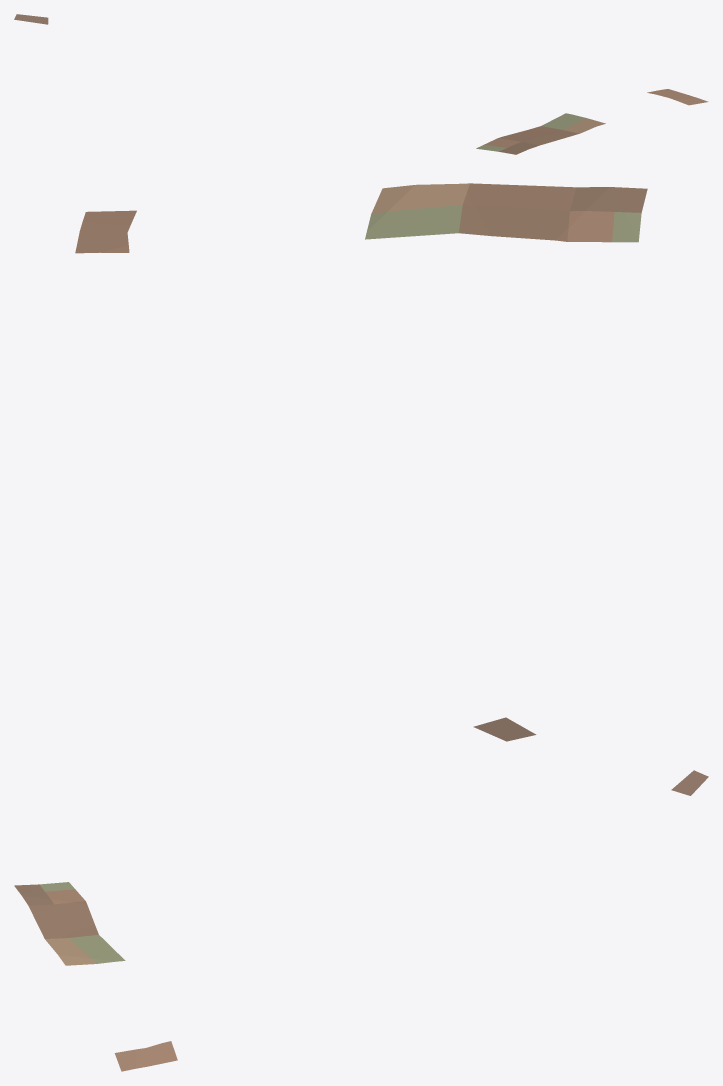
File: farm_1_11_soil.glb
3 views of the same model, one above another, from view 1: azimuth 30°, elevation 25°; view 2: azimuth 150°, elevation 25°; view 3: azimuth 270°, elevation 25° (orthographic). The views are drawn at different scales.
Parts seen in each view (by area): view 1: geometry_0; view 2: geometry_0; view 3: geometry_0.
Boxes of the visible parts, bbox=[...] form: geometry_0: bbox=[14, 14, 708, 154]; geometry_0: bbox=[75, 183, 647, 741]; geometry_0: bbox=[14, 770, 708, 1071].
Size of the model in its own units: 447 by 34.45 by 480.
